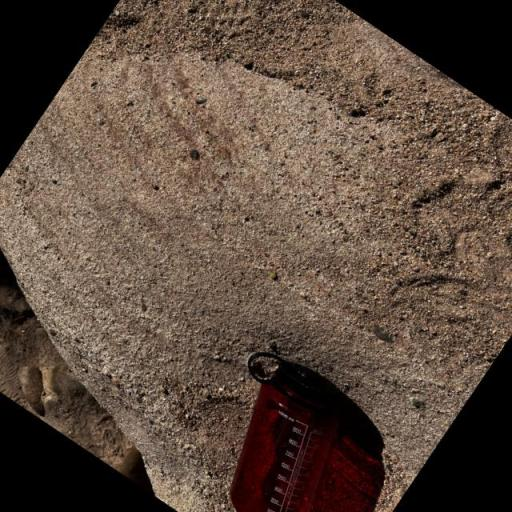bottle: (172, 339, 390, 512)
